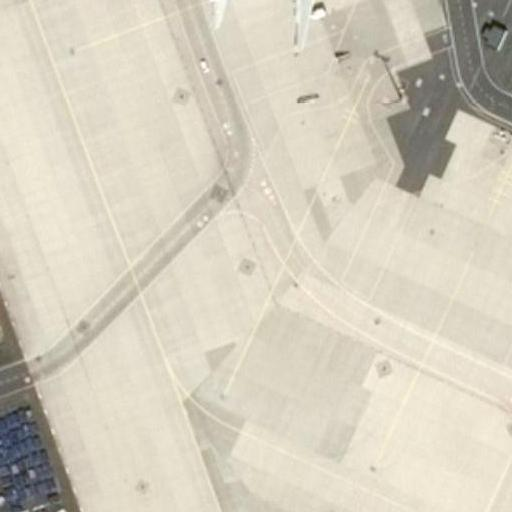Aircraft: (182, 0, 399, 32)
